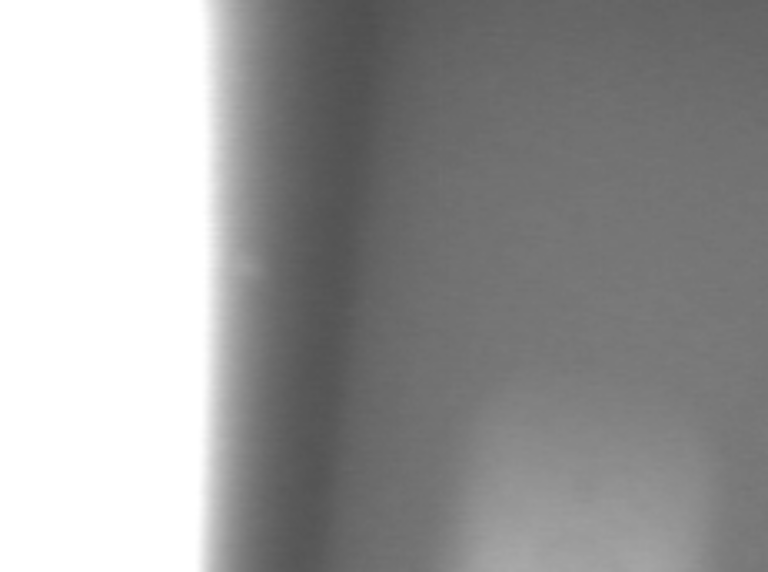defect: (239, 264, 283, 300)
